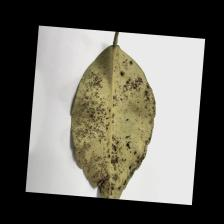canker: (72, 66, 151, 184)
